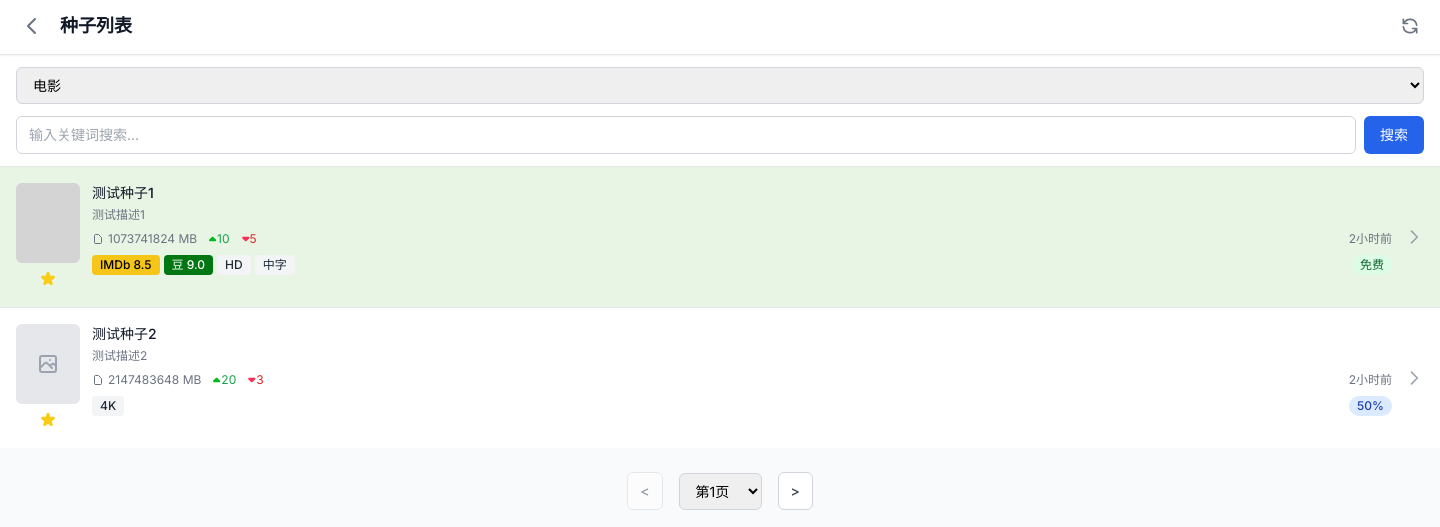
Test: TorrentListView › Error Handling › should handle favorite toggle errors
The width and height of the screenshot is (1440, 527).
Click the button with test id "favorite-button" next to "IMDb 8.5".
click(48, 279)  # box 36,267 -> 60,291
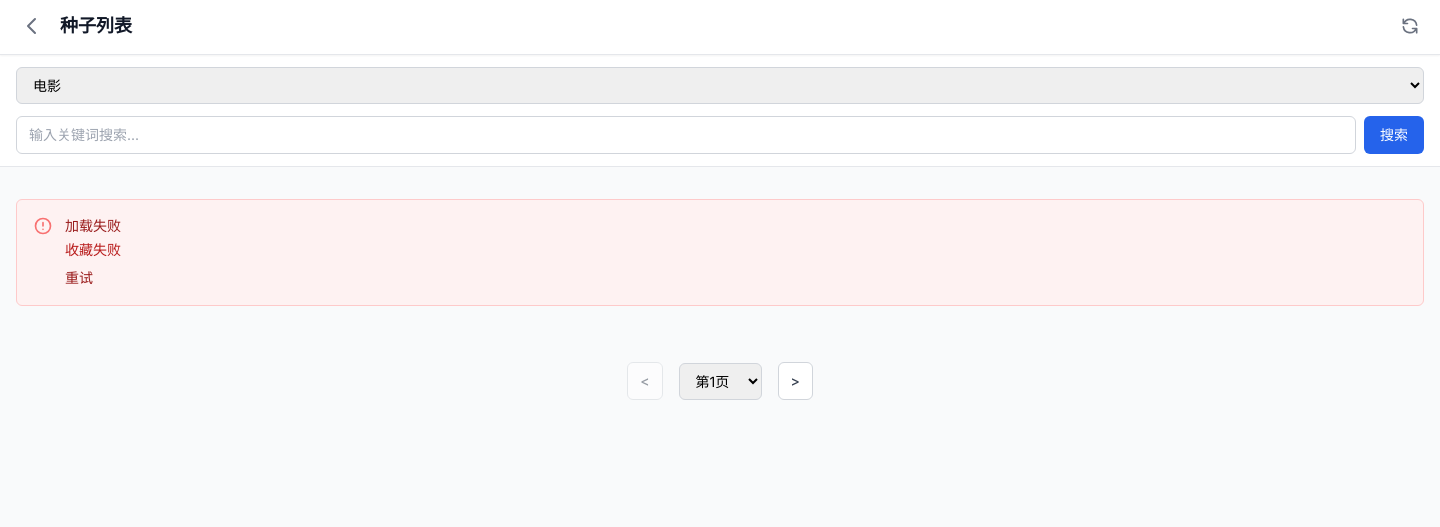
Now the text "收藏失败" is shown, box 65,240 -> 121,260
